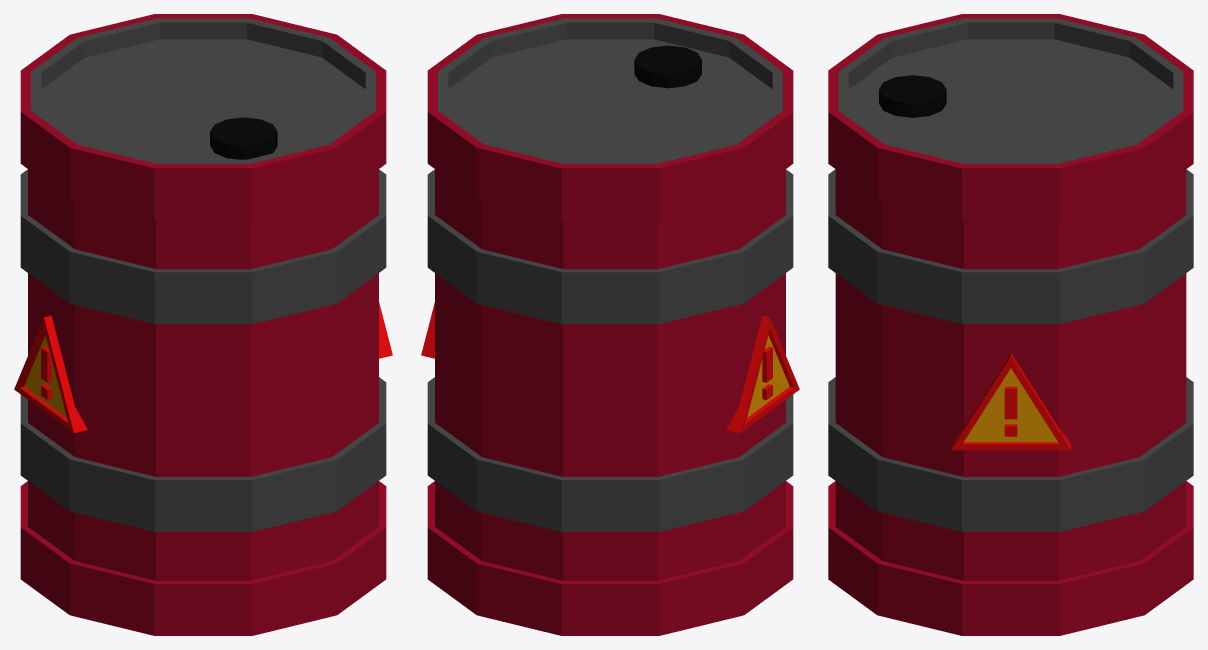
The model's file is barrel.glb.
The picture shows the model from 3 angles, left to right: view 1: azimuth 30°, elevation 25°; view 2: azimuth 150°, elevation 25°; view 3: azimuth 270°, elevation 25°; orthographic projection.
Visible parts, largest first — view 1: barrel; view 2: barrel; view 3: barrel.
Part boxes in pixels (box(x1,y1,x2,y2)): barrel: box(14, 14, 392, 635); barrel: box(421, 14, 799, 635); barrel: box(828, 14, 1193, 635).
Bounding box in the file's own units: 1.43 × 2 × 1.42.
